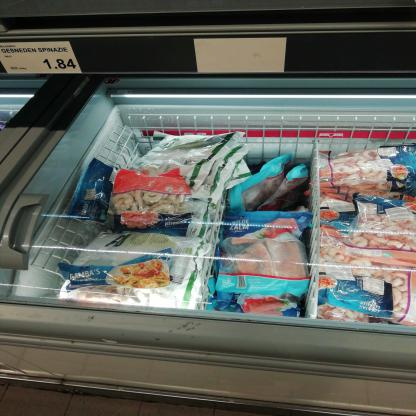prtg: (1, 42, 84, 76)
